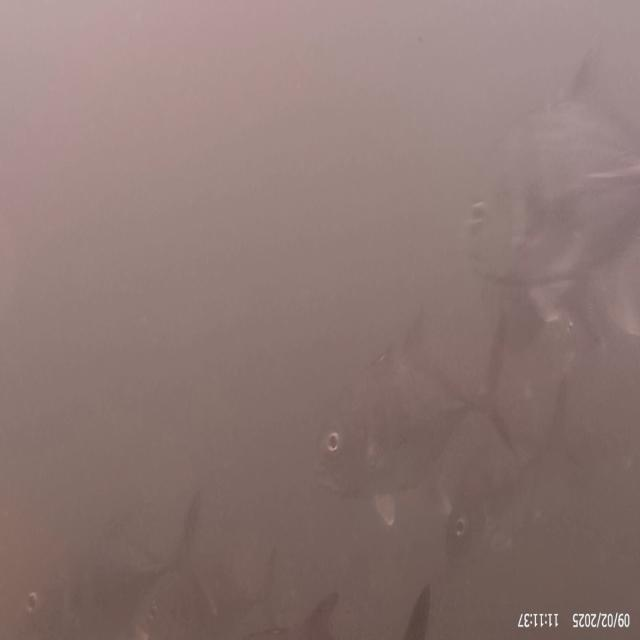ikan: (434, 74, 640, 272), (312, 330, 525, 509)
